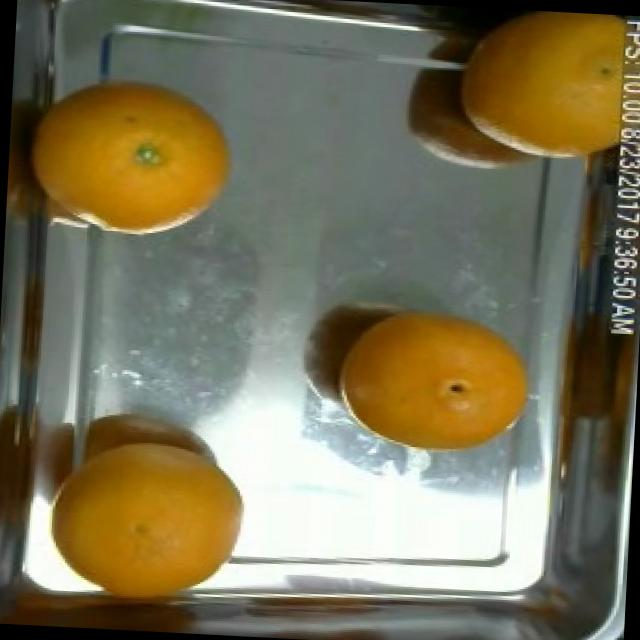Fruit: (330, 289, 557, 470), (440, 6, 640, 172)
